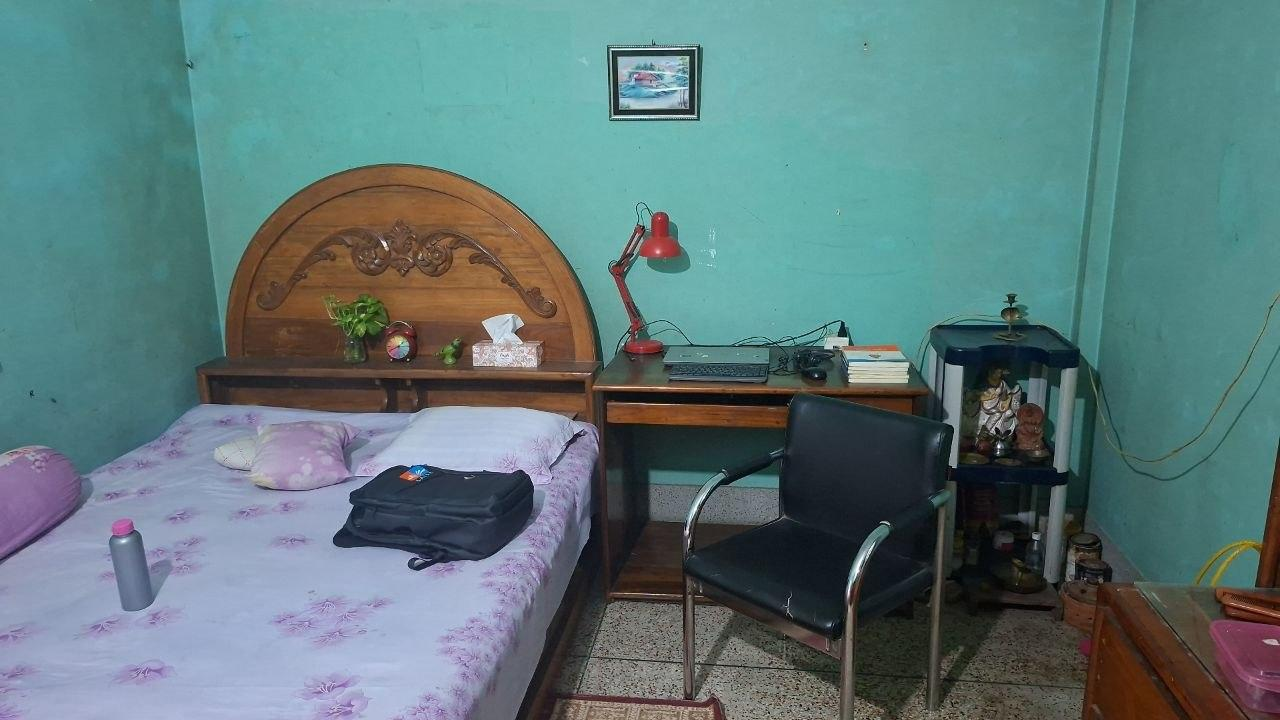Bag: (322, 460, 540, 571)
Book: (837, 339, 917, 383)
Bottle: (100, 504, 159, 622)
Box: (463, 329, 550, 370)
Chair: (678, 393, 965, 720)
Clock: (373, 318, 419, 364)
Keyboard: (659, 360, 783, 385)
Laptop: (659, 333, 777, 375)
Mouse: (791, 354, 839, 389)
Photo: (607, 44, 699, 121)
Pillow: (383, 402, 580, 477), (211, 414, 370, 496), (0, 437, 94, 573)
Plant: (322, 293, 387, 366)
Table Lamp: (603, 188, 687, 370)
